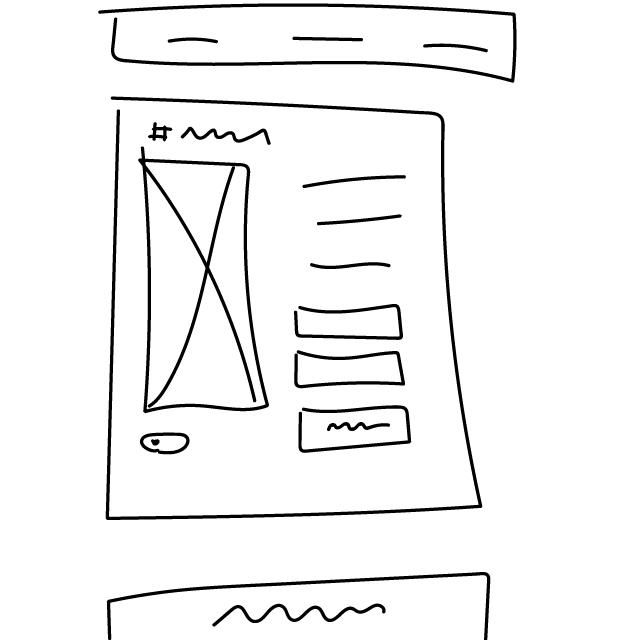button: (295, 406, 419, 454)
checkbox: (137, 431, 192, 456)
container: (105, 94, 495, 525)
footer: (100, 568, 503, 640)
frame: (135, 142, 279, 417)
heading: (146, 121, 274, 148)
input: (292, 350, 412, 393), (290, 302, 409, 345)
nav: (96, 1, 520, 88)
text: (298, 169, 418, 272)
